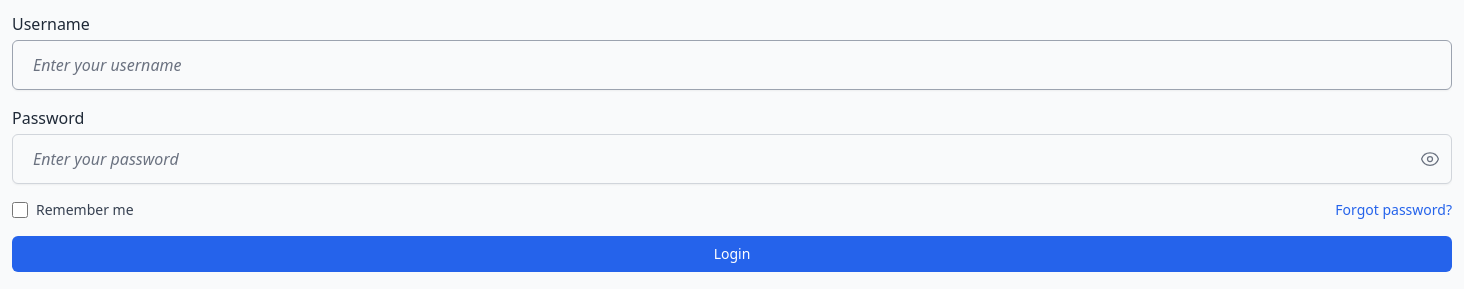
Test case: LoginForm Component › displays loading state during login process
# Fill in the form
Type "test@example.com" into the field labelled "Username" at (732, 65), box top-left (12, 40), bottom-right (1452, 90)
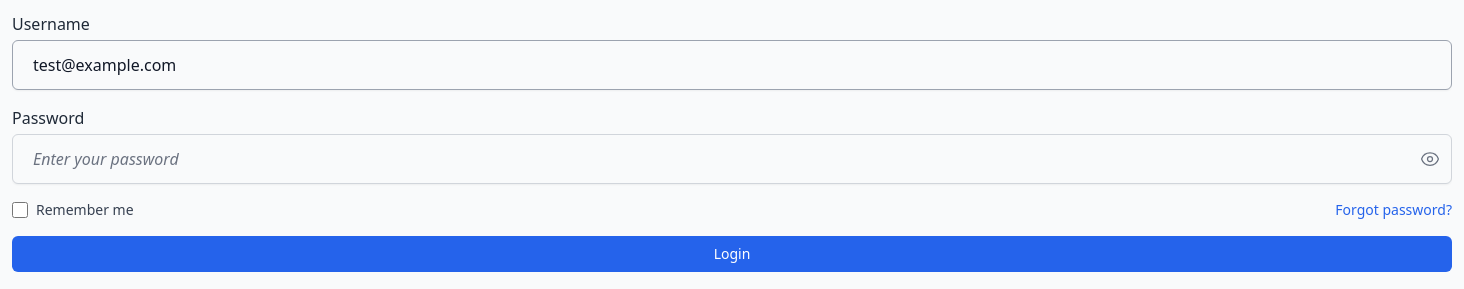
Type "password123" into the password field labelled "Password" at (732, 159), box top-left (12, 134), bottom-right (1452, 184)
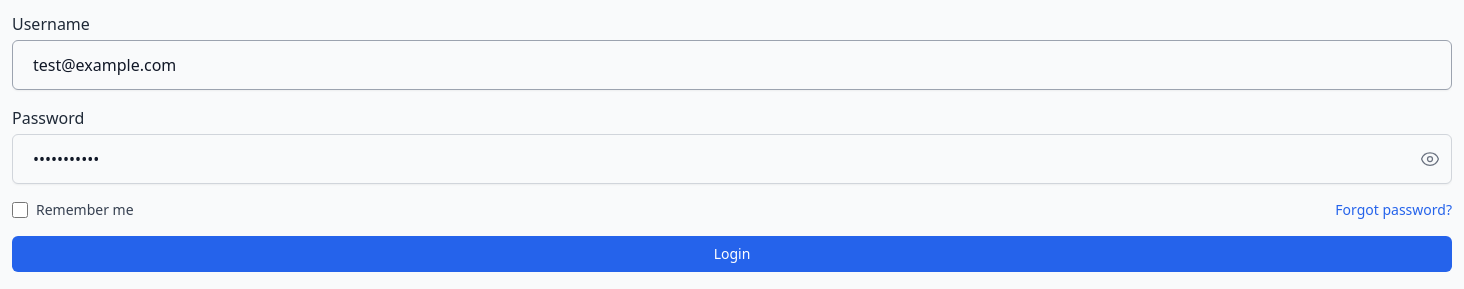
# Submit the form and wait for loading state
Click the button "Login" at (732, 254), box top-left (12, 236), bottom-right (1452, 272)
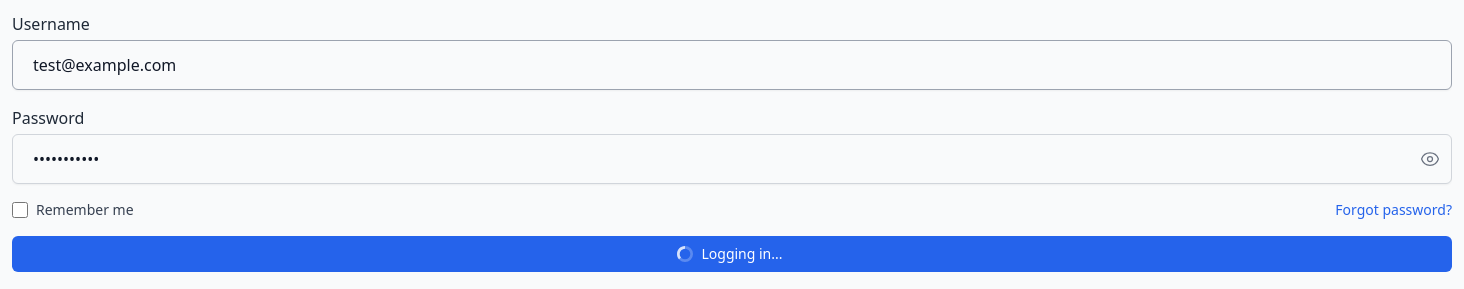
Result: the text "Logging in..." is shown at top-left (678, 244), bottom-right (783, 263)
